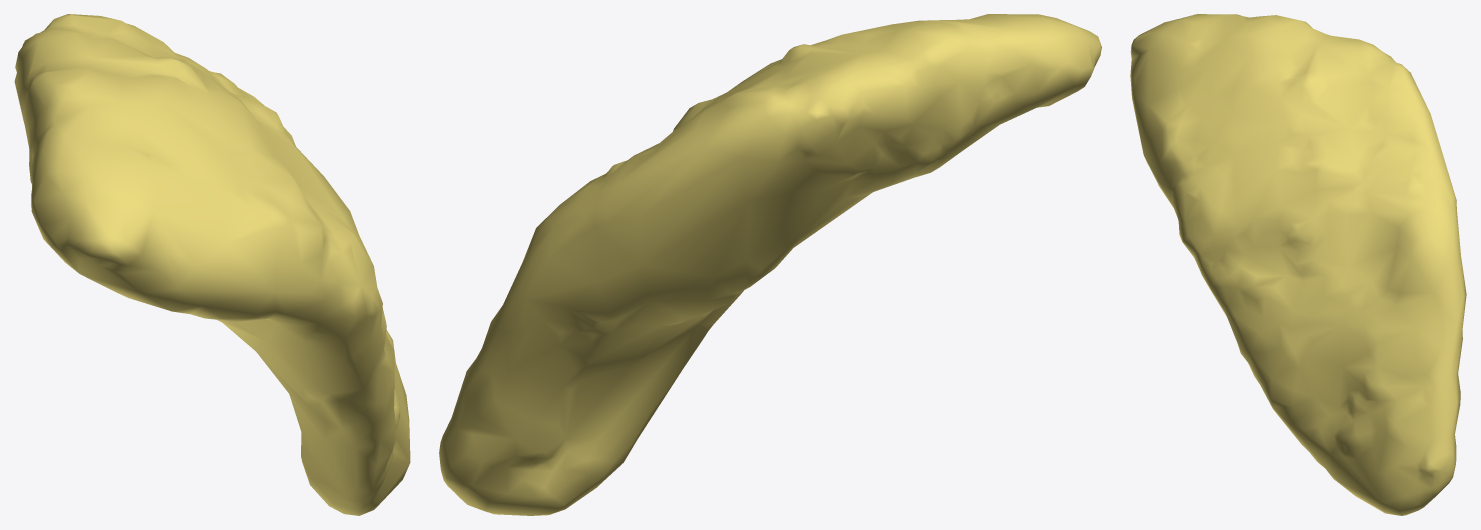
File: lacrimal-gland-l.glb
The picture shows the model from 3 angles, left to right: view 1: azimuth 30°, elevation 25°; view 2: azimuth 150°, elevation 25°; view 3: azimuth 270°, elevation 25°; orthographic projection. The views are drawn at different scales.
Parts seen in each view (by area): view 1: Lacrimal gland.l; view 2: Lacrimal gland.l; view 3: Lacrimal gland.l.
Boxes of the visible parts, x1,y1,x2,y2 form: Lacrimal gland.l: (14,14,410,515); Lacrimal gland.l: (439,14,1101,515); Lacrimal gland.l: (1130,14,1466,515).
Bounding box in the file's own units: 0.018 × 0.0184 × 0.0151.
